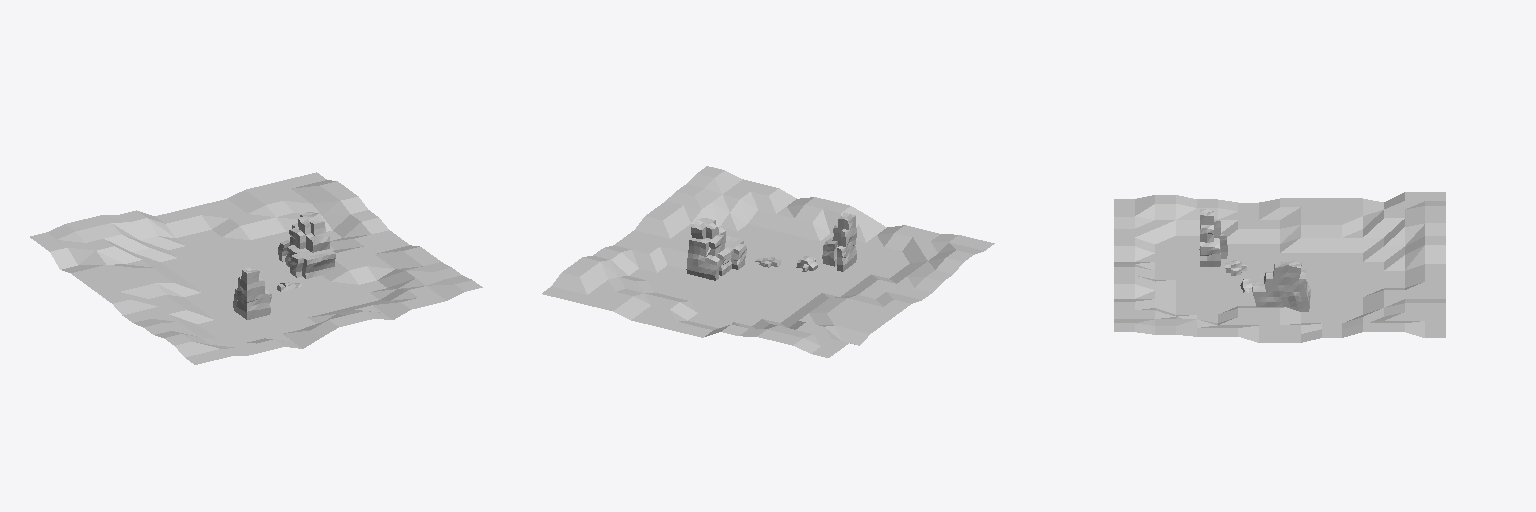
The model's file is desert-environment.obj.
3 views of the same model, side by side, from view 1: azimuth 30°, elevation 25°; view 2: azimuth 150°, elevation 25°; view 3: azimuth 270°, elevation 25° (orthographic).
Size of the model in its own units: 50 by 7.83 by 50.